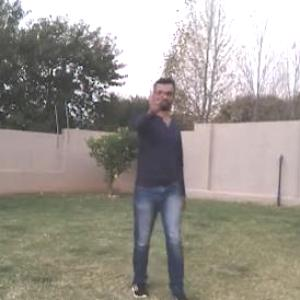takeoff-hand: (141, 86, 171, 118)
